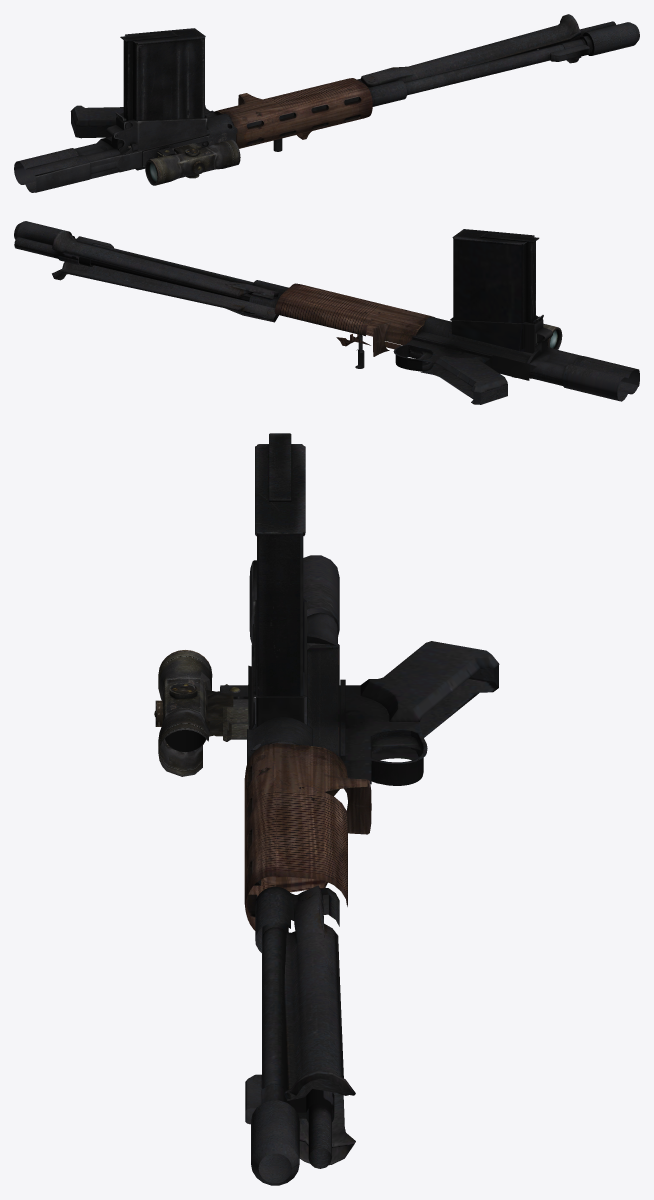
The model's file is viewmodel_ger_fg42_scoped_lmg1.obj.
The picture shows the model from 3 angles, top to bottom: view 1: azimuth 30°, elevation 25°; view 2: azimuth 150°, elevation 25°; view 3: azimuth 270°, elevation 25°; orthographic projection. The views are drawn at different scales.
Visible parts, largest first — view 1: TomGroup_4, TomGroup_3, TomGroup_5, TomGroup_2, TomGroup_6; view 2: TomGroup_4, TomGroup_3, TomGroup_5, TomGroup_2, TomGroup_1; view 3: TomGroup_4, TomGroup_5, TomGroup_3, TomGroup_2, TomGroup_6, TomGroup_1.
Boxes of the visible parts, left/top/right/bottom form: TomGroup_4: left=14, top=21, right=639, bottom=192; TomGroup_3: left=120, top=28, right=205, bottom=120; TomGroup_5: left=214, top=78, right=372, bottom=148; TomGroup_2: left=360, top=14, right=581, bottom=87; TomGroup_6: left=145, top=139, right=240, bottom=185; TomGroup_4: left=14, top=221, right=639, bottom=404; TomGroup_3: left=452, top=229, right=539, bottom=350; TomGroup_5: left=274, top=283, right=434, bottom=356; TomGroup_2: left=52, top=230, right=278, bottom=297; TomGroup_1: left=52, top=262, right=278, bottom=322; TomGroup_4: left=219, top=555, right=499, bottom=1185; TomGroup_5: left=244, top=743, right=371, bottom=930; TomGroup_3: left=255, top=433, right=305, bottom=695; TomGroup_2: left=284, top=885, right=355, bottom=1100; TomGroup_6: left=154, top=650, right=248, bottom=776; TomGroup_1: left=299, top=1092, right=355, bottom=1165.
Size of the model in its own units: 82.82 by 20.69 by 20.45.
5 materials, 5 textured.
